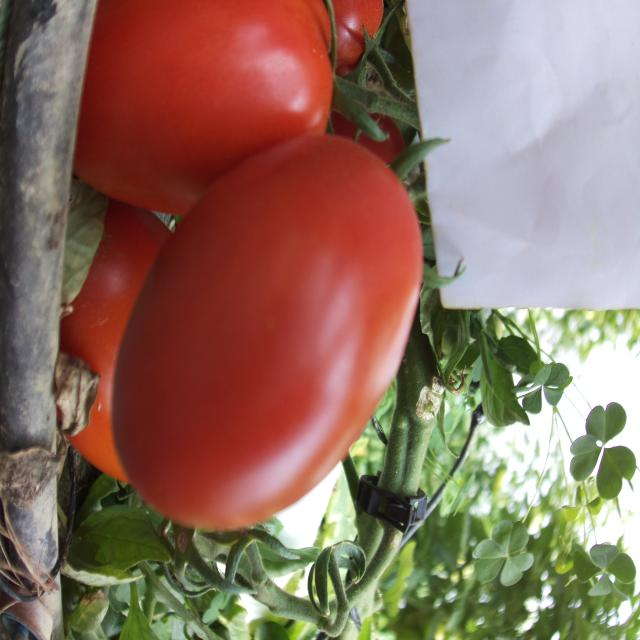kirmizi: (71, 0, 428, 541)
